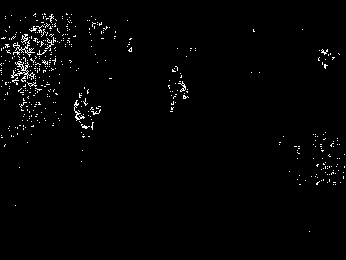person: (72, 85, 105, 147), (165, 64, 193, 116)
